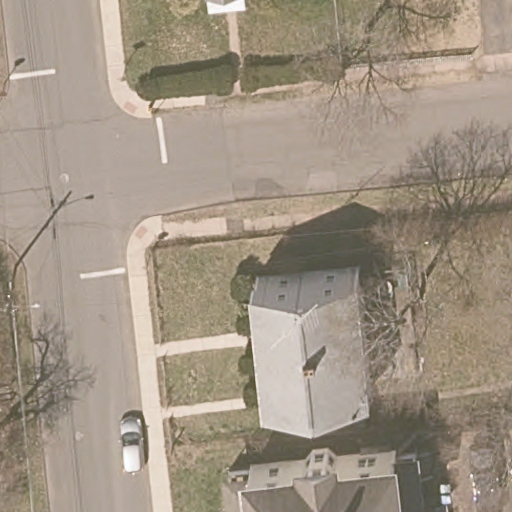DT: (1, 264, 42, 318)
